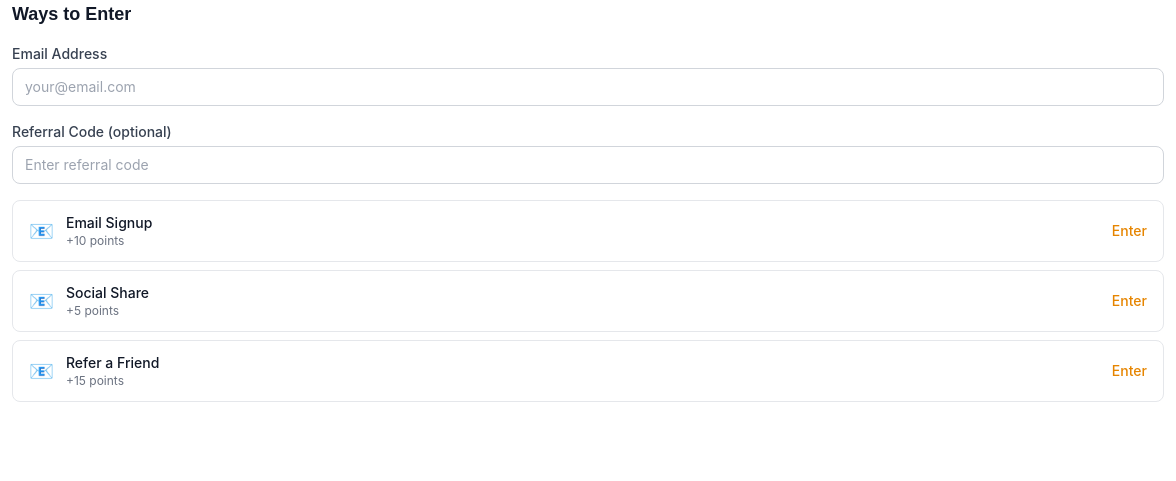
Test: GiveawayEntryForm › shows generic error message when non-Error is thrown
Click the button with test id "entry-method-social_share".
click(108, 292)  # box [12, 270, 1164, 332]
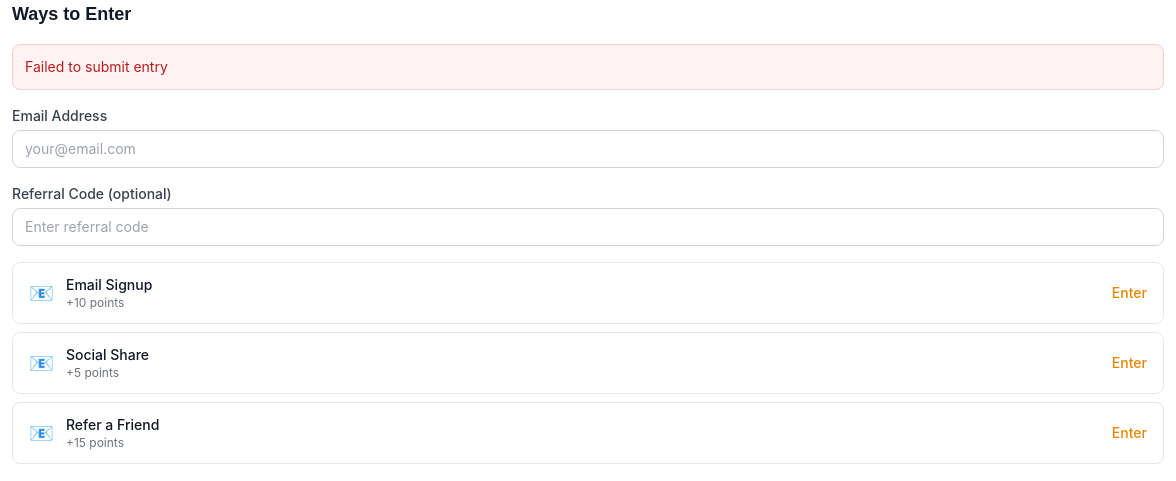
Now the text "Failed to submit entry" is shown, box [12, 44, 1164, 90]
